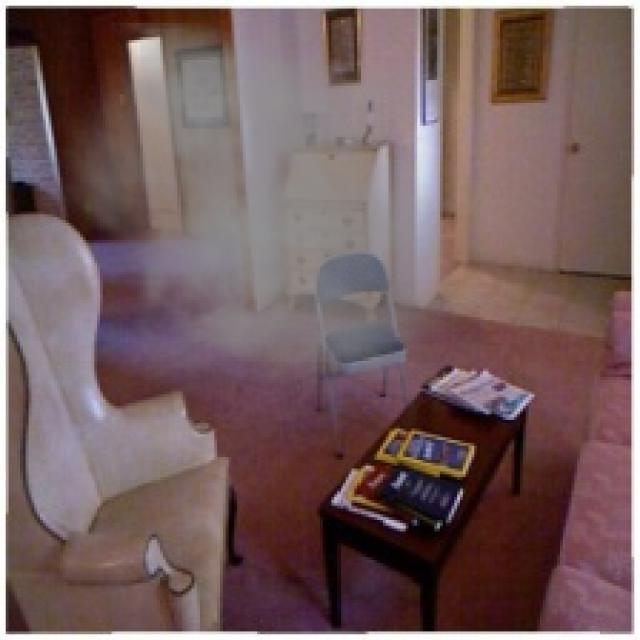smoke: (49, 23, 457, 383)
